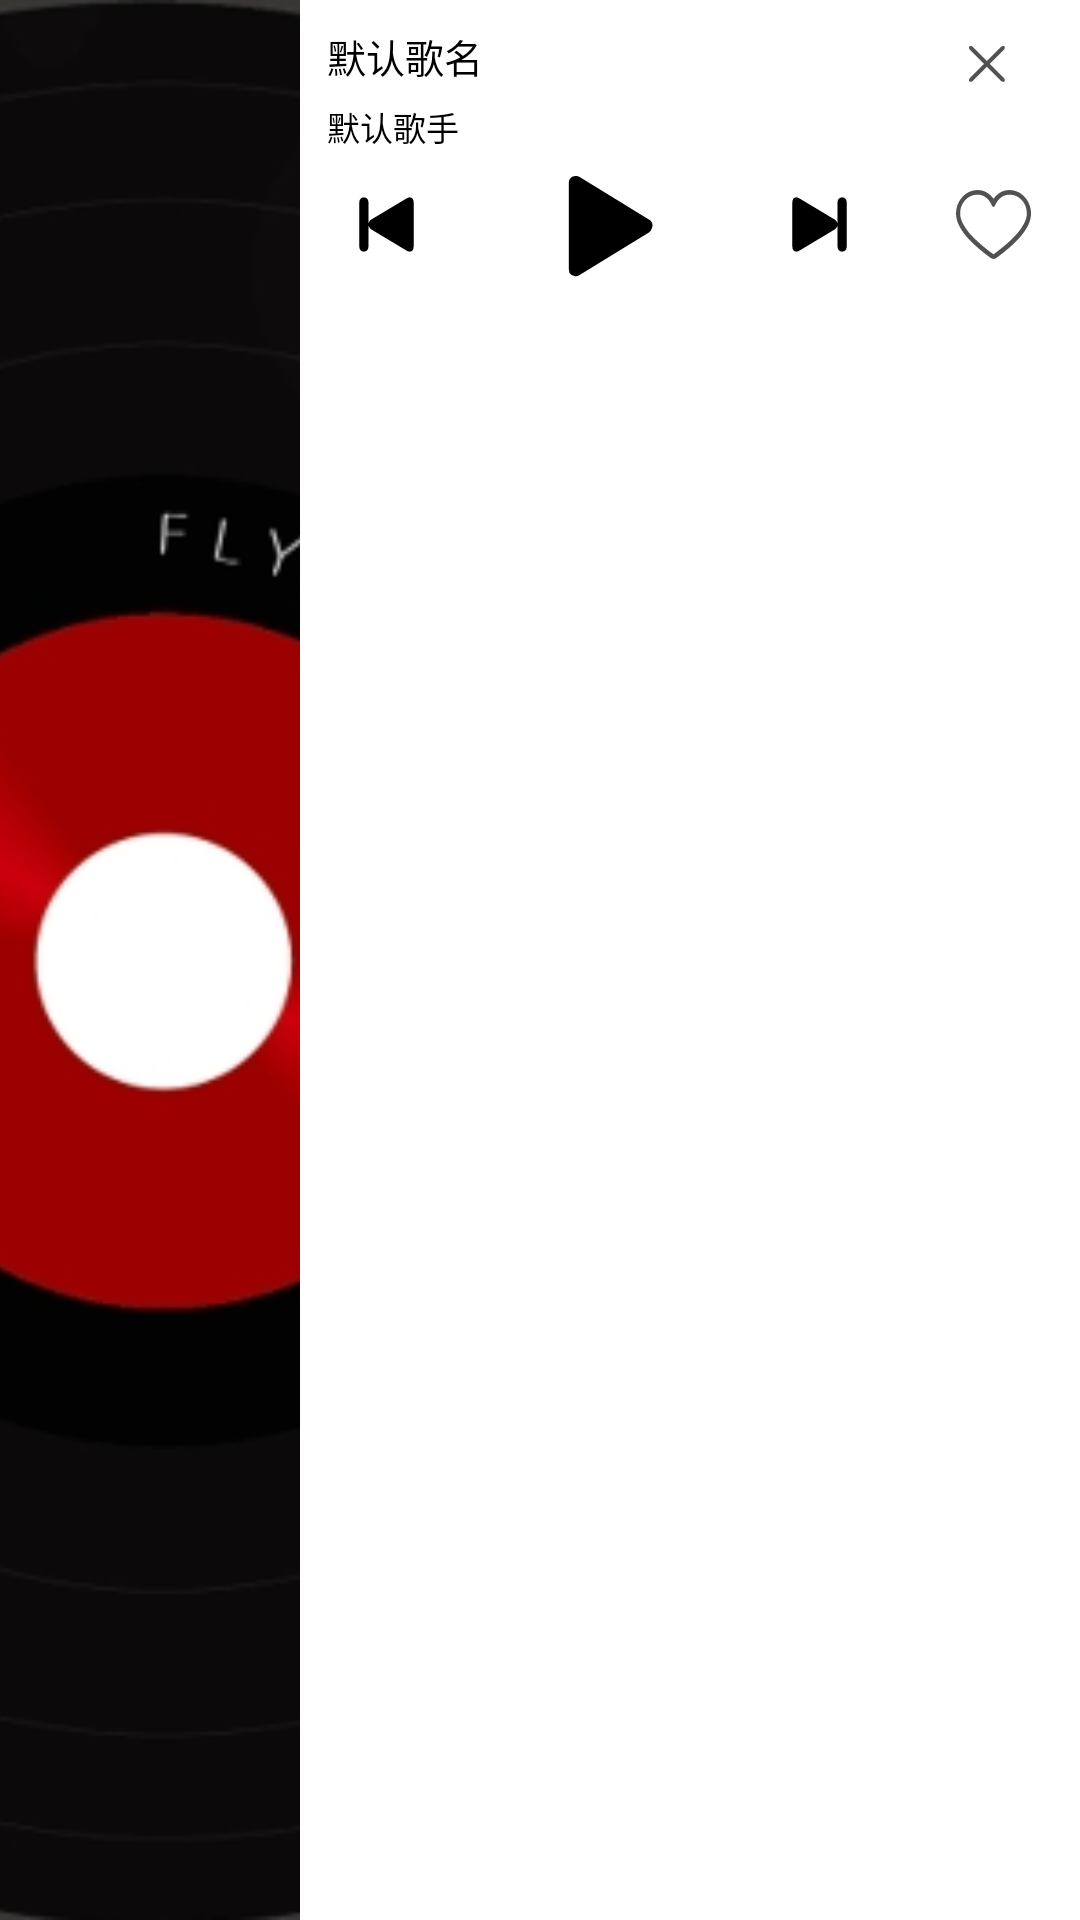

Screen size 1080 x 1920. Icon name, then its center in pixels as [x,y]:
last: [386,224]
like: [993,224]
next: [819,224]
play: [610,226]
